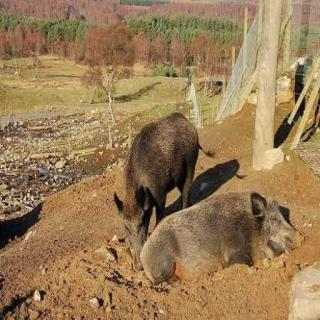Pig: (153, 173, 320, 288), (110, 82, 218, 238)
